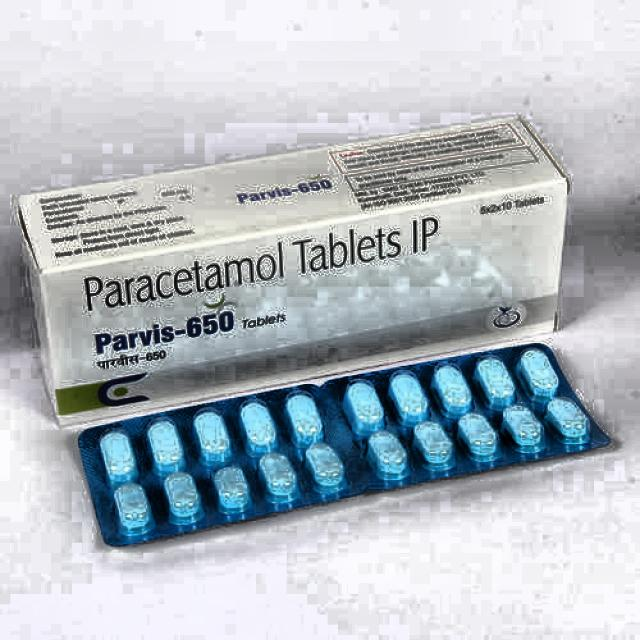Paracetamol: (69, 189, 533, 337)
